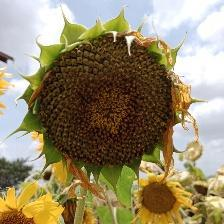sunflower: (14, 1, 211, 198)
